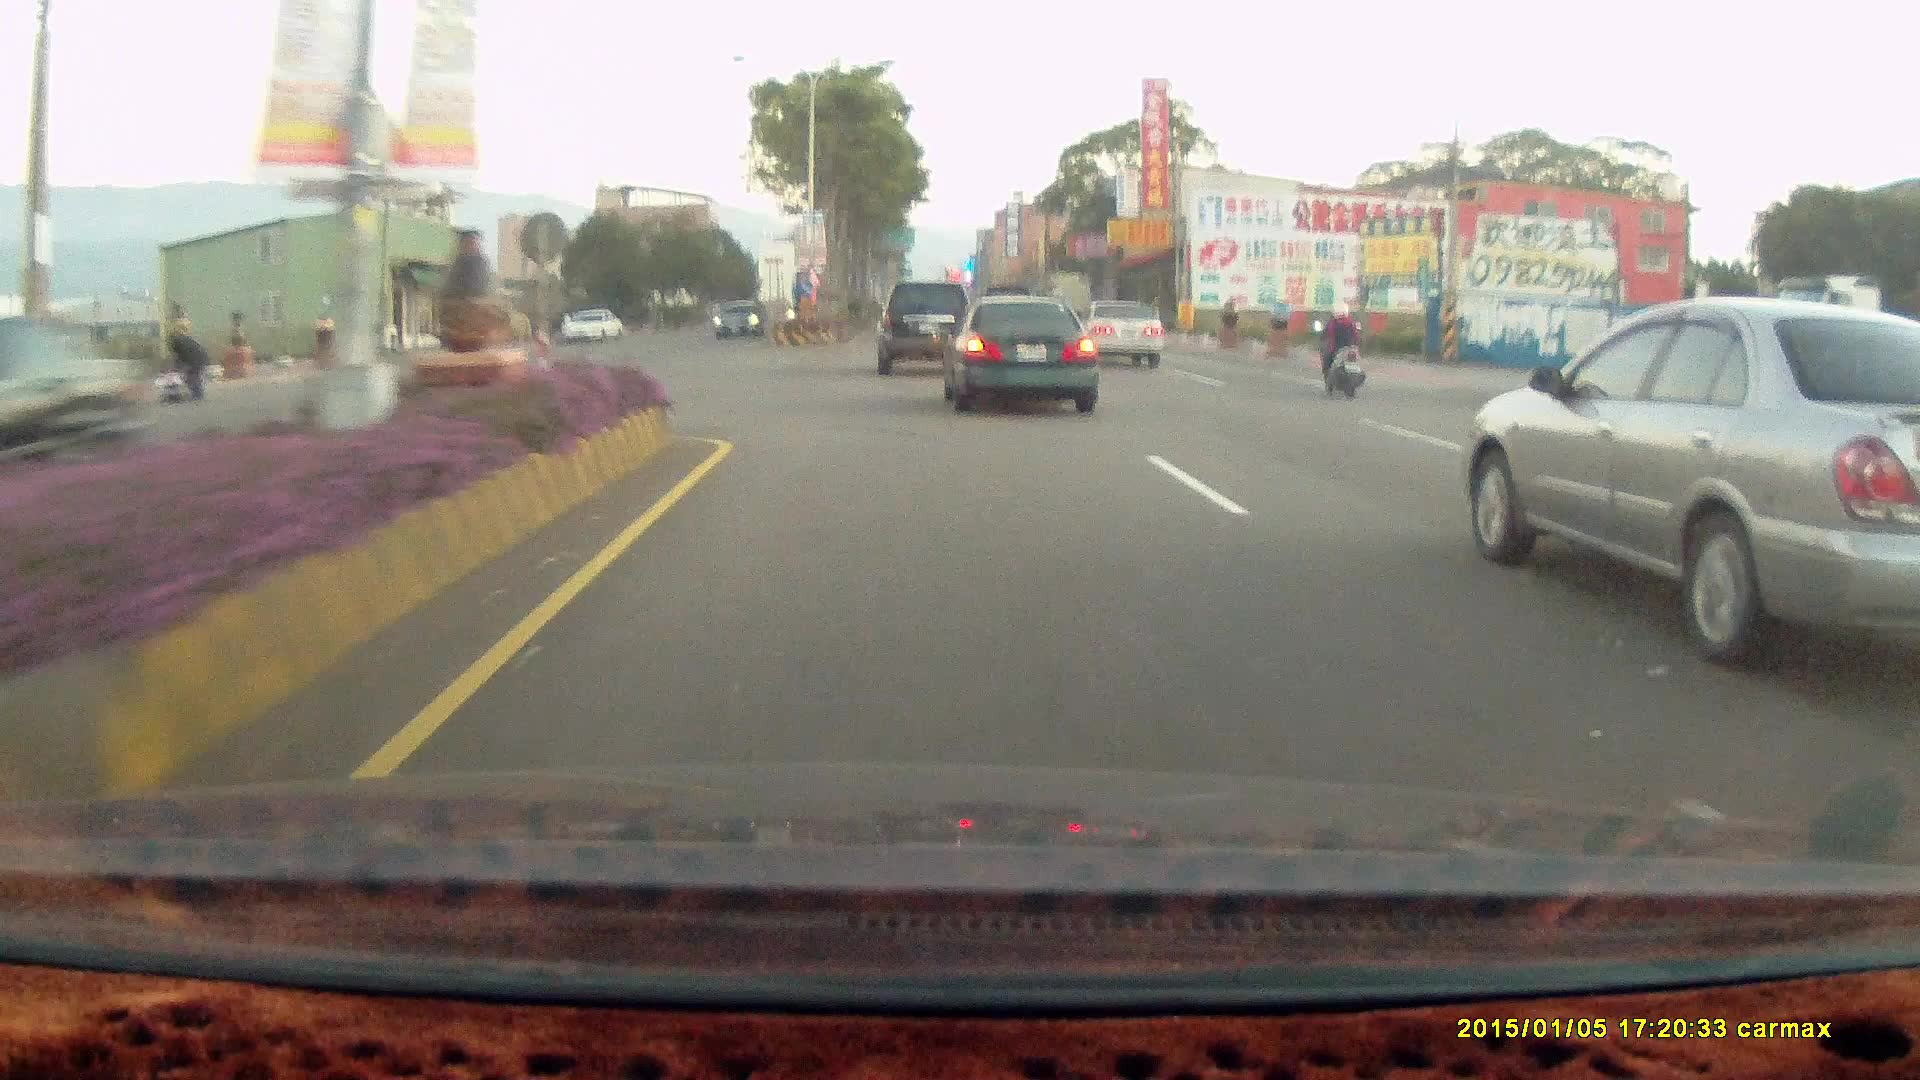pedestrian: (163, 328, 207, 402)
rider: (1305, 294, 1378, 409), (1310, 299, 1366, 397)
vehicle: (1458, 302, 1920, 671), (0, 326, 144, 519), (932, 292, 1092, 410), (951, 297, 1108, 416), (879, 277, 981, 375), (875, 281, 973, 376), (1078, 299, 1166, 371), (1078, 297, 1164, 367), (561, 309, 627, 347), (712, 301, 767, 343), (561, 309, 624, 343), (711, 300, 766, 338)
